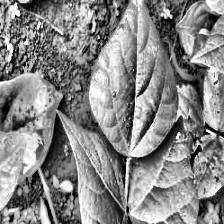ALS: (99, 0, 170, 158), (71, 119, 137, 224), (134, 120, 185, 224), (192, 129, 224, 198)
